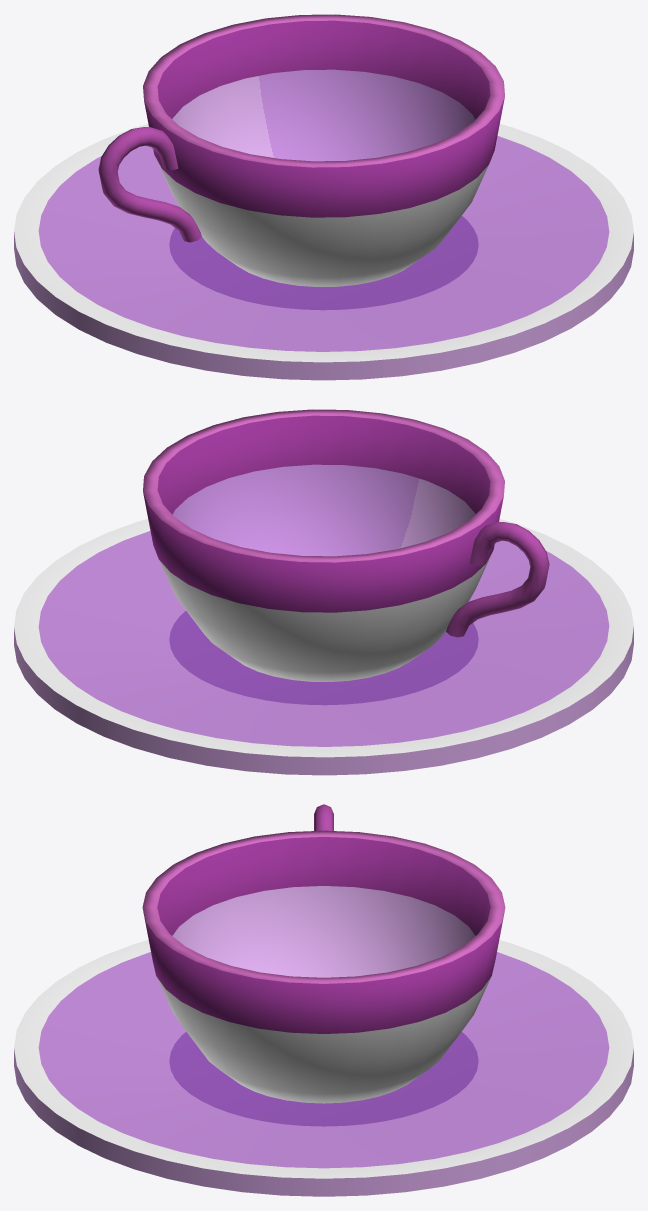
File: PurpleScoop.fbx
The picture shows the model from 3 angles, top to bottom: view 1: azimuth 30°, elevation 25°; view 2: azimuth 150°, elevation 25°; view 3: azimuth 270°, elevation 25°; orthographic projection.
Visible parts, largest first — view 1: PurpleScoopPlate, PurpleScoopCup; view 2: PurpleScoopPlate, PurpleScoopCup; view 3: PurpleScoopPlate, PurpleScoopCup.
Part boxes in pixels (bbox=[...]): PurpleScoopPlate: bbox=[14, 124, 633, 380]; PurpleScoopCup: bbox=[98, 14, 504, 286]; PurpleScoopPlate: bbox=[14, 519, 633, 775]; PurpleScoopCup: bbox=[143, 409, 549, 681]; PurpleScoopPlate: bbox=[14, 940, 633, 1196]; PurpleScoopCup: bbox=[142, 804, 505, 1103].
Size of the model in its own units: 6.22 by 6.22 by 1.84.
